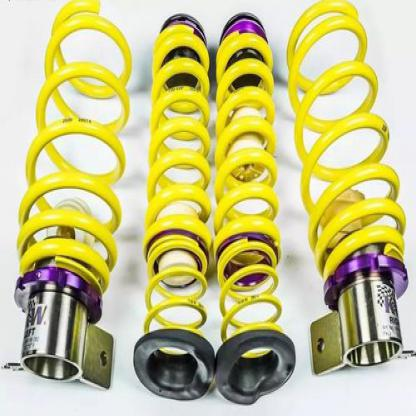FOD: (18, 1, 135, 296), (285, 0, 407, 280), (142, 22, 212, 344), (214, 37, 284, 337)
